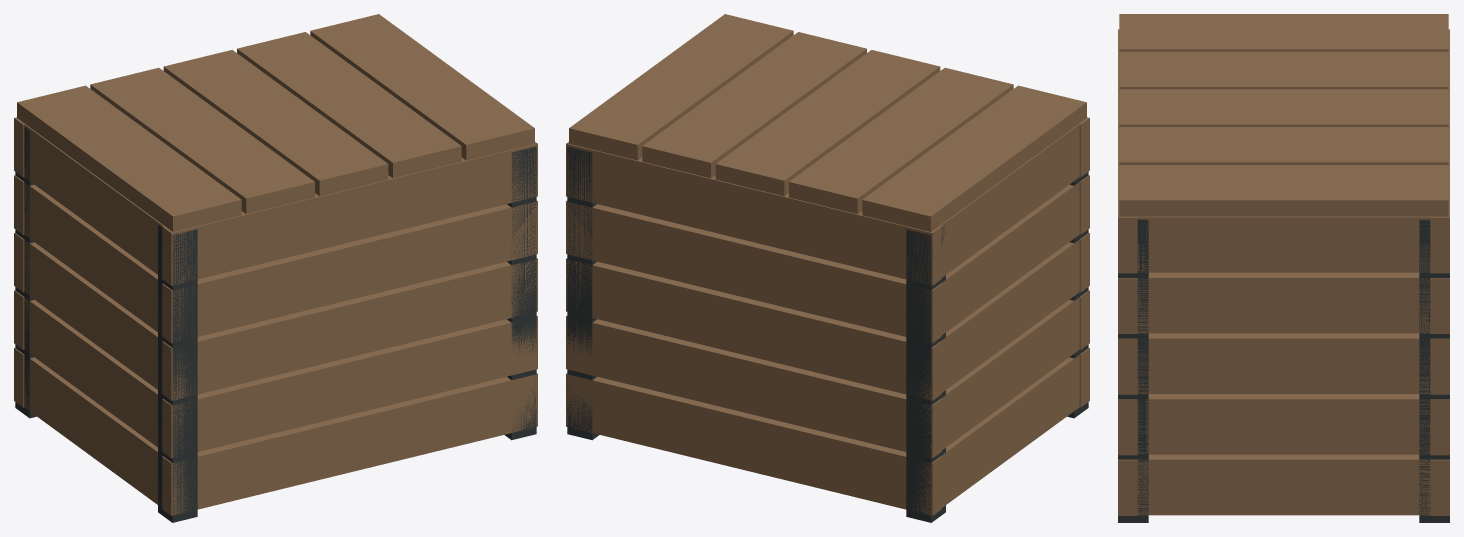
Rendered from crate.glb.
3 views of the same model, side by side, from view 1: azimuth 30°, elevation 25°; view 2: azimuth 150°, elevation 25°; view 3: azimuth 270°, elevation 25° (orthographic). The views are drawn at different scales.
Parts seen in each view (by area): view 1: Дощатый ящик; view 2: Дощатый ящик; view 3: Дощатый ящик.
Boxes of the visible parts, bbox=[...] form: Дощатый ящик: bbox=[14, 14, 537, 522]; Дощатый ящик: bbox=[566, 14, 1089, 522]; Дощатый ящик: bbox=[1118, 14, 1449, 522].
Size of the model in its own units: 0.8 by 0.6375 by 0.595.
